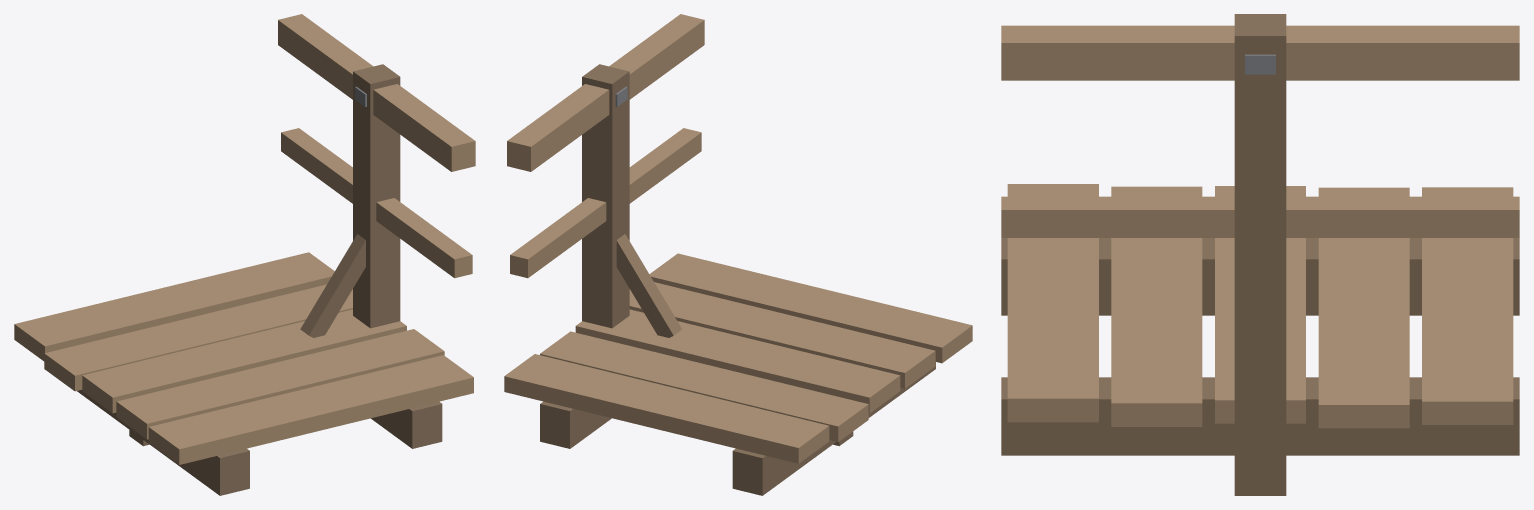
Rendered from bridge-wood-side-r.glb.
The picture shows the model from 3 angles, left to right: view 1: azimuth 30°, elevation 25°; view 2: azimuth 150°, elevation 25°; view 3: azimuth 270°, elevation 25°; orthographic projection. The views are drawn at different scales.
Parts seen in each view (by area): view 1: bridge-wood-side-r; view 2: bridge-wood-side-r; view 3: bridge-wood-side-r.
Part boxes in pixels (bbox=[...]): bridge-wood-side-r: bbox=[14, 14, 475, 495]; bridge-wood-side-r: bbox=[504, 14, 972, 495]; bridge-wood-side-r: bbox=[1001, 14, 1519, 495].
Bounding box in the file's own units: 0.999 × 0.98 × 1.
